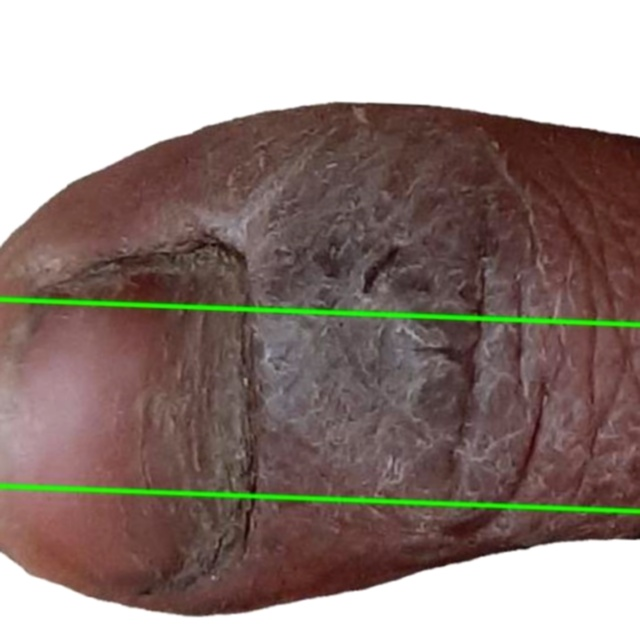Contact Dermatitis: (0, 0, 639, 326), (0, 486, 639, 639)
